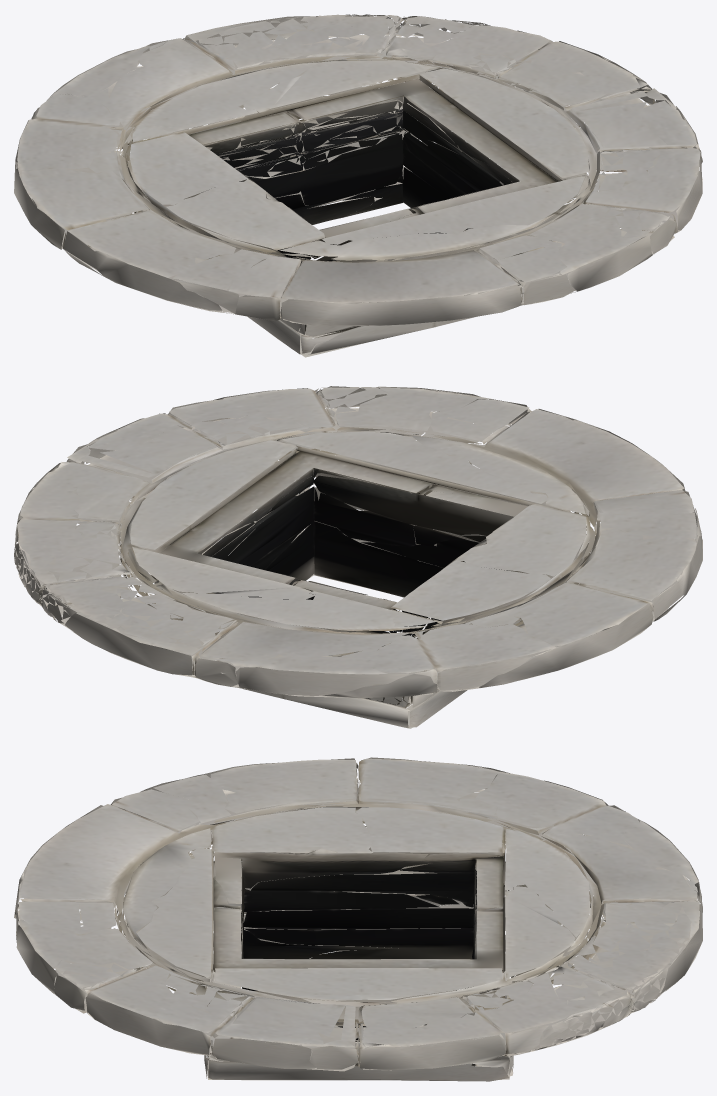
Rendered from grave.glb.
The picture shows the model from 3 angles, top to bottom: view 1: azimuth 30°, elevation 25°; view 2: azimuth 150°, elevation 25°; view 3: azimuth 270°, elevation 25°; orthographic projection.
Parts seen in each view (by area): view 1: node_0; view 2: node_0; view 3: node_0.
Boxes of the visible parts, box(x1,y1,x2,y2) form: node_0: box(14, 14, 702, 357); node_0: box(14, 386, 702, 728); node_0: box(14, 757, 702, 1081).
Bounding box in the file's own units: 1.02 × 0.1891 × 1.02.
Materials: 1 (1 with a texture image).
